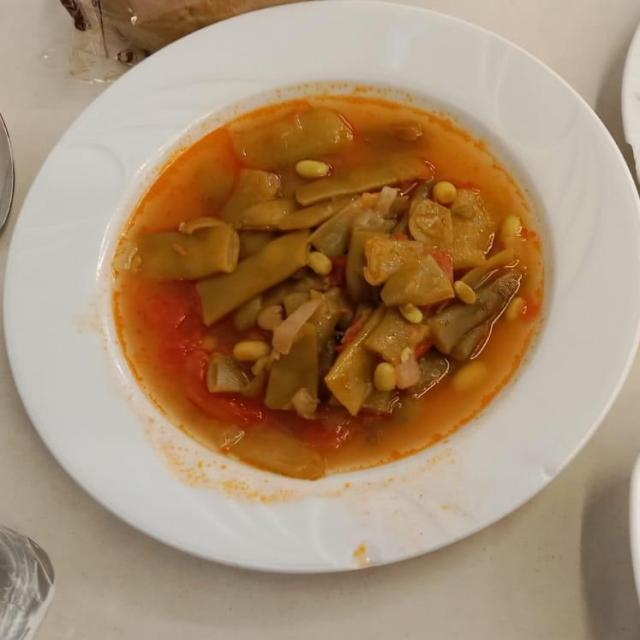ana_yemek: (111, 90, 544, 478)
